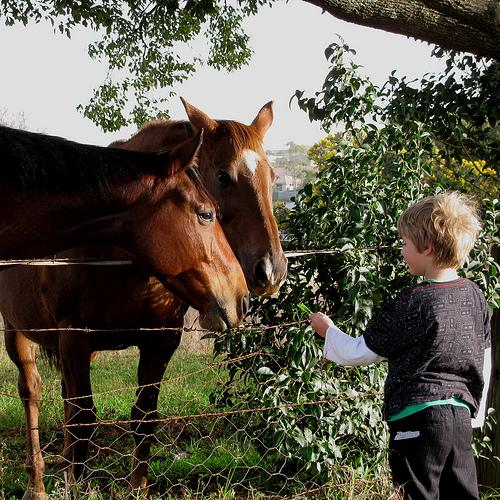person: (305, 191, 495, 500)
